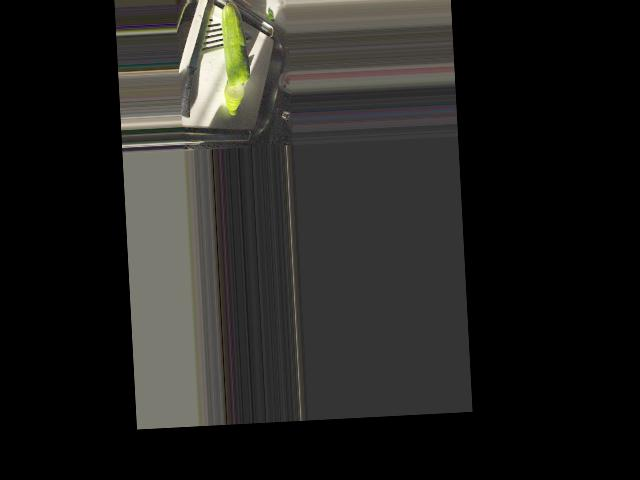cucumber: (220, 1, 250, 87)
